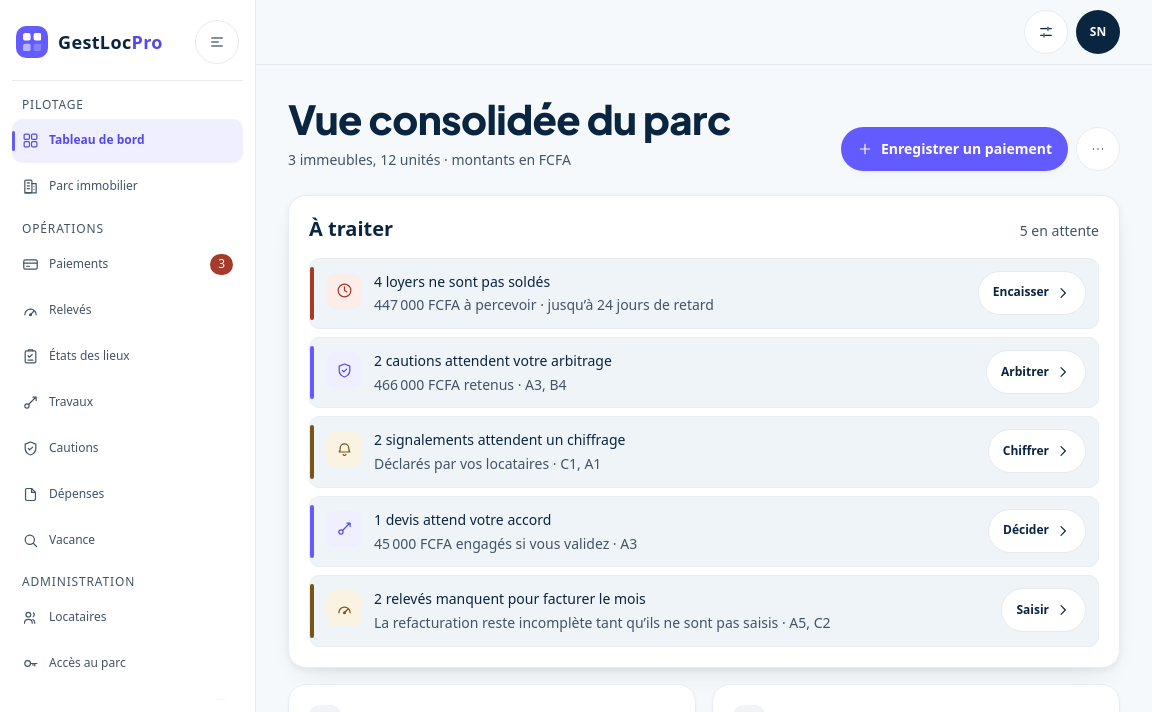
les réglages › portent les mêmes intitulés sur la authentification
The image size is (1152, 712).
Click the button named "Réglages : langue, devise et thème" at (1046, 32), box [1024,10,1068,54]
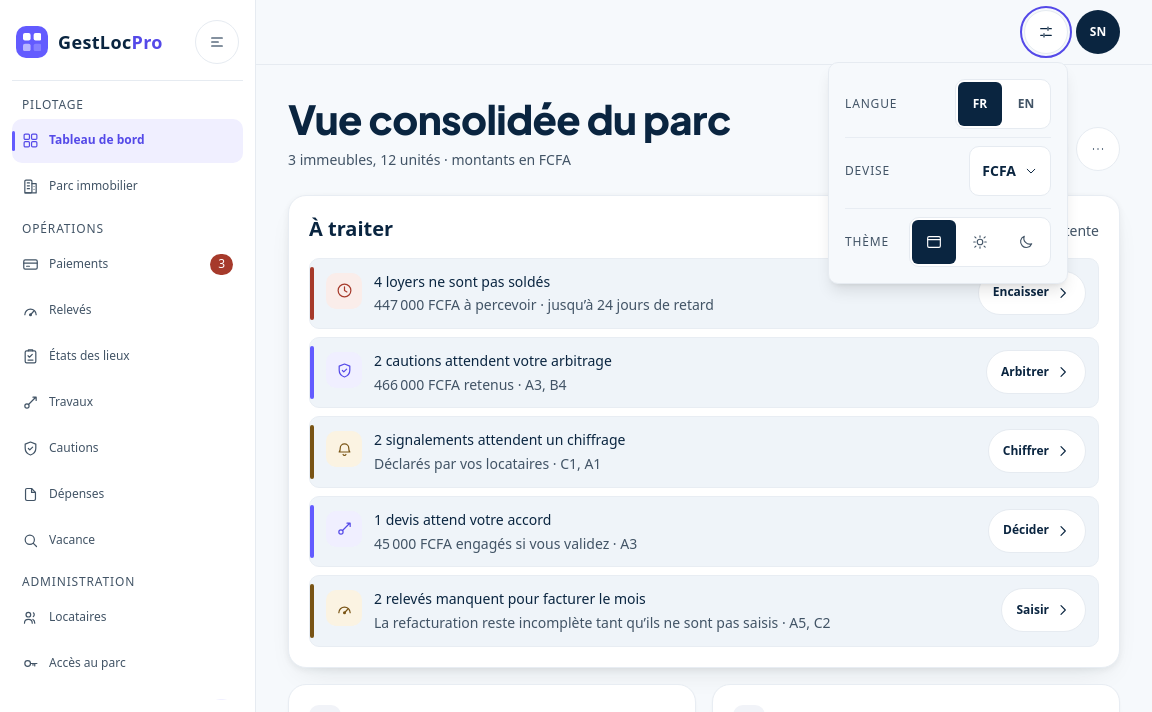
Expected: the element showing "Langue FR EN Devise FCFA Thème" is shown, [845,79,1051,267]
